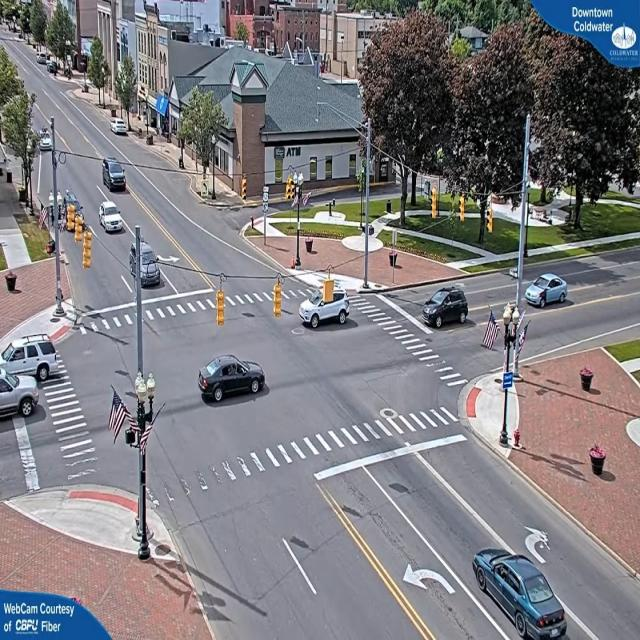car: (474, 545, 566, 632), (196, 355, 267, 405), (0, 330, 61, 378), (422, 286, 471, 330), (296, 292, 350, 330), (2, 371, 41, 423), (524, 270, 570, 308), (103, 159, 128, 193), (100, 203, 126, 235)
